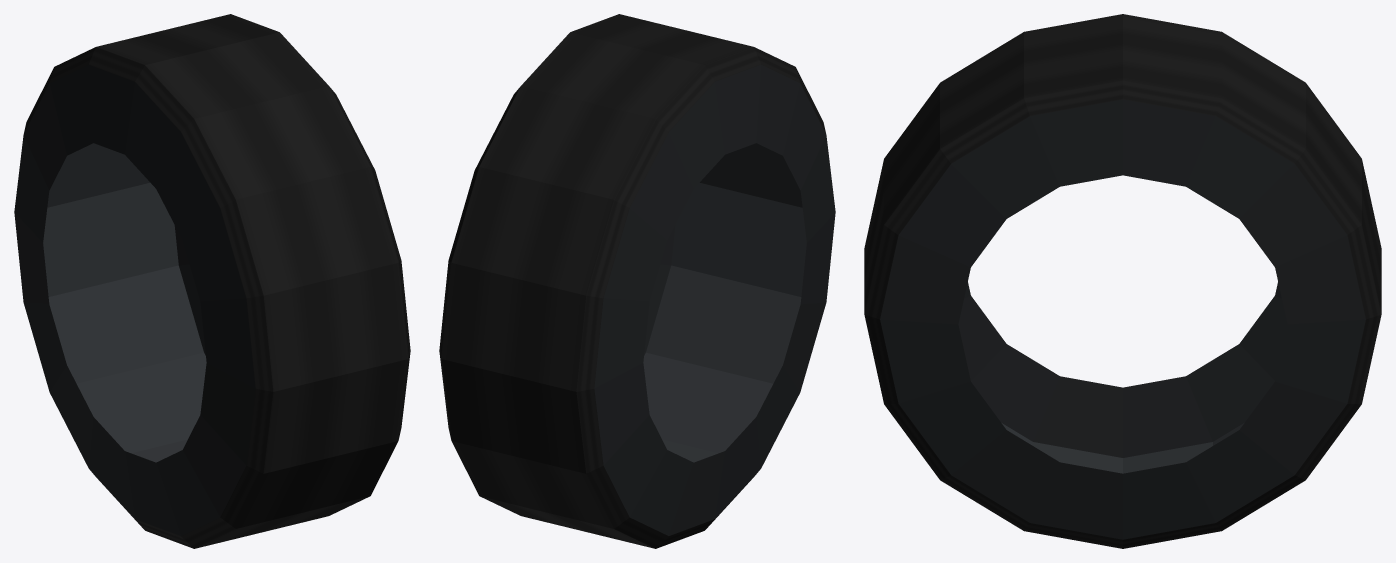
File: tire_01_offroad_mud.obj
The picture shows the model from 3 angles, left to right: view 1: azimuth 30°, elevation 25°; view 2: azimuth 150°, elevation 25°; view 3: azimuth 270°, elevation 25°; orthographic projection.
Parts seen in each view (by area): view 1: tire_01_offroad_mud; view 2: tire_01_offroad_mud; view 3: tire_01_offroad_mud.
Part boxes in pixels (x1=…): tire_01_offroad_mud: x1=14, y1=14, x2=410, y2=548; tire_01_offroad_mud: x1=439, y1=14, x2=835, y2=548; tire_01_offroad_mud: x1=864, y1=14, x2=1381, y2=548.
Bounding box in the file's own units: 0.325 × 0.825 × 0.825.
